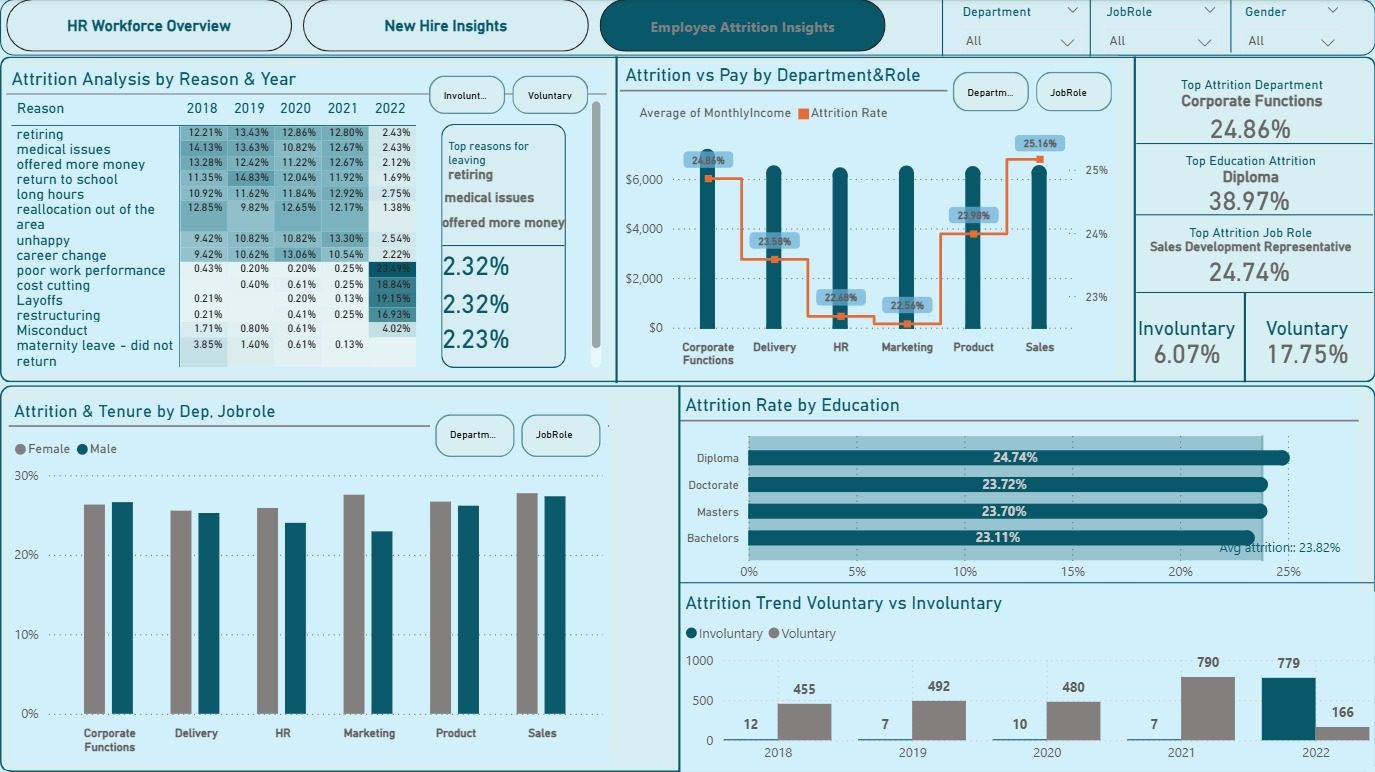

Layout of this report page (visuals, bound fields, positions):
{"tool":"powerbi","page":{"name":"Employee Attrition Insights","canvas":[1280,720],"ordinal":2},"visuals":[{"type":"pivotTable","title":"Attrition Analysis by Reason & Year","fields":{"Rows":["HR Employee data.Reason"],"Values":["Age Group.Attrition Rate with reason (%)"],"Columns":["HR Employee data.LeavingYear"]},"box":[6.1,63.8,558.3,282.2],"z":0,"group":"g2"},{"type":"shape","box":[411.1,116,115.9,226.9],"z":0,"group":"g1"},{"type":"shape","box":[0,359.5,1279.8,360.7],"z":0},{"type":"shape","box":[0,54,1279.8,303.1],"z":1000},{"type":"advancedSlicerVisual","fields":{"Values":["HR Employee data.RelievingStatus"]},"box":[395,66.3,158.3,46.6],"z":1000,"group":"g2"},{"type":"cardVisual","fields":{"Data":["Age Group.Top Attrition Reason"]},"box":[400.1,115.9,136.6,72.9],"z":1000,"group":"g1"},{"type":"clusteredColumnChart","title":"Attrition & Tenure by Dep, Jobrole","fields":{"Category":["HR Employee data.Department","Job_position_structure.JobRole"],"Y":["Employee_office_survey.Attrition Rate (%)"],"Series":["HR Employee data.Gender"]},"box":[8.1,373.3,558.1,337.2],"z":1000,"group":"g3"},{"type":"cardVisual","fields":{"Data":["Age Group.Top Attrition Department"]},"box":[1079.7,60.1,169.3,47.9],"z":2000},{"type":"shape","box":[412.3,218.3,113.4,21.5],"z":2000,"group":"g1"},{"type":"shape","title":"Employee Attrition Insights","box":[0,0,1279.8,52.8],"z":3000},{"type":"lineStackedColumnComboChart","title":"Attrition vs Pay by Department&Role","fields":{"Category":["HR Employee data.Department","Job_position_structure.JobRole"],"Y":["Avg(HR Employee data.MonthlyIncome)"],"Y2":["Age Group.Attrition Rate"]},"box":[576.7,60.1,461.4,290.8],"z":3000,"group":"g4"},{"type":"cardVisual","fields":{"Data":["Age Group.Top 2 Attrition Reasons"]},"box":[396.9,164.9,161.2,38.2],"z":3000,"group":"g1"},{"type":"advancedSlicerVisual","fields":{"Values":["Attrition View.Attrition View"]},"box":[399.8,381.7,165.5,50.2],"z":3000,"group":"g3"},{"type":"shape","box":[1056.8,130.7,220.3,8.5],"z":4000},{"type":"cardVisual","fields":{"Data":["Age Group.Top 3 Attrition Reason"]},"box":[394.9,187.6,158.2,38.2],"z":4000,"group":"g1"},{"type":"advancedSlicerVisual","fields":{"Values":["attrition view 2.attrition view 2"]},"box":[880.9,62.4,158.6,47.2],"z":5000,"group":"g4"},{"type":"cardVisual","fields":{"Data":["Age Group.Top 1 Attrition Rate1 %"]},"box":[395,221.8,117,44.1],"z":5000,"group":"g1"},{"type":"shape","box":[1056.8,263.9,220.3,18.2],"z":5000},{"type":"shape","box":[6.6,130.6,220.3,18.2],"z":6000},{"type":"cardVisual","fields":{"Data":["Age Group.Top 2 Attrition Rate  2%"]},"box":[395,257.9,117,40.1],"z":6000,"group":"g1"},{"type":"cardVisual","fields":{"Data":["Age Group.Top Department Attrition Rate %"]},"box":[1108.5,95.7,111.7,41.7],"z":7000},{"type":"cardVisual","fields":{"Data":["Age Group.Top 3 Attrition Rate3 %"]},"box":[395,290,117,40.1],"z":7000,"group":"g1"},{"type":"cardVisual","fields":{"Data":["Age Group.Involuntary Attrition %"]},"box":[1038.6,284.2,131.9,62.9],"z":8000},{"type":"cardVisual","fields":{"Data":["Age Group.Top Attrition Job Role"]},"box":[1050.6,192.5,227.6,65.4],"z":9000},{"type":"cardVisual","fields":{"Data":["Age Group.Voluntary Attrition %"]},"box":[1152.4,283.6,127.1,64.2],"z":10000},{"type":"cardVisual","fields":{"Data":["Age Group.Top Job Role Attrition Rate %"]},"box":[1107.5,162.2,113.8,41.2],"z":11000},{"type":"shape","box":[1145.1,273.6,25.4,83.5],"z":12000},{"type":"group","id":"g1","title":"Group 3","box":[394.9,115.9,163.2,227],"z":12006,"group":"g2"},{"type":"cardVisual","fields":{"Data":["Age Group.Top Education by Attrition"]},"box":[1079.6,131.9,169.5,52.1],"z":13000},{"type":"shape","box":[566.5,53.3,14.5,303.8],"z":14000},{"type":"cardVisual","fields":{"Data":["Age Group.Top Education Attrition %"]},"box":[1107.3,228.1,114.1,47.9],"z":15000},{"type":"shape","box":[1047.9,54,16,303.1],"z":16000},{"type":"group","id":"g2","title":"Group 1","box":[6.1,63.8,558.3,282.2],"z":17000},{"type":"group","id":"g3","title":"Group 2","box":[8.1,373.3,558.1,337.2],"z":18000},{"type":"group","id":"g4","title":"Group 4","box":[576.7,60.1,462.8,290.8],"z":19000},{"type":"clusteredBarChart","title":"Attrition Rate by Education","fields":{"Category":["HR Employee data.EducationField"],"Y":["Age Group.Attrition Rate"]},"box":[632.6,367.4,631.4,183.7],"z":20000},{"type":"clusteredColumnChart","title":"Attrition Trend Voluntary vs Involuntary","fields":{"Category":["HR Employee data.LeavingYear"],"Y":["Age Group.Attrition count"],"Series":["HR Employee data.RelievingStatus"]},"box":[632.6,551.2,646.5,168.6],"z":21000},{"type":"shape","box":[632.6,534.9,645.4,16.3],"z":23000},{"type":"shape","box":[624.4,359.3,15.1,360.5],"z":24000},{"type":"slicer","fields":{"Values":["Job_position_structure.JobRole"]},"box":[1016.8,0,127.1,48.4],"z":27000},{"type":"slicer","fields":{"Values":["HR Employee data.Department"]},"box":[882.5,0,133.2,48.4],"z":28000},{"type":"slicer","fields":{"Values":["HR Employee data.Gender"]},"box":[1145.1,0,112.6,49.6],"z":29000},{"type":"shape","box":[861.9,0,30.3,53.3],"z":30000},{"type":"shape","box":[1007.1,0,14.5,53.3],"z":31000},{"type":"shape","box":[1137.9,0,13.3,49.6],"z":32000},{"type":"shape","box":[1056.8,196.1,220.3,8.5],"z":33000},{"type":"pageNavigator","box":[6.1,0,820.7,49.6],"z":34000}]}

Visuals, with their boxes in screenshot pixels (x1, y1, x2, y2), scaled from the page's 1280x720 canvas onto the 1375x772 screenshot:
"Attrition Analysis by Reason & Year" pivotTable: <box>7,68,606,371</box>
shape: <box>442,124,566,368</box>
shape: <box>0,385,1374,771</box>
shape: <box>0,58,1374,383</box>
advancedSlicerVisual - HR Employee data.RelievingStatus: <box>424,71,594,121</box>
cardVisual - Age Group.Top Attrition Reason: <box>430,124,577,202</box>
"Attrition & Tenure by Dep, Jobrole" clusteredColumnChart: <box>9,400,608,762</box>
cardVisual - Age Group.Top Attrition Department: <box>1160,64,1342,116</box>
shape: <box>443,234,565,257</box>
"Employee Attrition Insights" shape: <box>0,0,1374,57</box>
"Attrition vs Pay by Department&Role" lineStackedColumnComboChart: <box>620,64,1115,376</box>
cardVisual - Age Group.Top 2 Attrition Reasons: <box>426,177,600,218</box>
advancedSlicerVisual - Attrition View.Attrition View: <box>429,409,607,463</box>
shape: <box>1135,140,1372,149</box>
cardVisual - Age Group.Top 3 Attrition Reason: <box>424,201,594,242</box>
advancedSlicerVisual - attrition view 2.attrition view 2: <box>946,67,1117,118</box>
cardVisual - Age Group.Top 1 Attrition Rate1 %: <box>424,238,550,285</box>
shape: <box>1135,283,1372,302</box>
shape: <box>7,140,244,160</box>
cardVisual - Age Group.Top 2 Attrition Rate  2%: <box>424,277,550,320</box>
cardVisual - Age Group.Top Department Attrition Rate %: <box>1191,103,1311,147</box>
cardVisual - Age Group.Top 3 Attrition Rate3 %: <box>424,311,550,354</box>
cardVisual - Age Group.Involuntary Attrition %: <box>1116,305,1257,372</box>
cardVisual - Age Group.Top Attrition Job Role: <box>1129,206,1373,277</box>
cardVisual - Age Group.Voluntary Attrition %: <box>1238,304,1374,373</box>
cardVisual - Age Group.Top Job Role Attrition Rate %: <box>1190,174,1312,218</box>
shape: <box>1230,293,1257,383</box>
"Group 3" group: <box>424,124,600,368</box>
cardVisual - Age Group.Top Education by Attrition: <box>1160,141,1342,197</box>
shape: <box>609,57,624,383</box>
cardVisual - Age Group.Top Education Attrition %: <box>1189,245,1312,296</box>
shape: <box>1126,58,1143,383</box>
"Group 1" group: <box>7,68,606,371</box>
"Group 2" group: <box>9,400,608,762</box>
"Group 4" group: <box>620,64,1117,376</box>
"Attrition Rate by Education" clusteredBarChart: <box>680,394,1358,591</box>
"Attrition Trend Voluntary vs Involuntary" clusteredColumnChart: <box>680,591,1374,771</box>
shape: <box>680,574,1373,591</box>
shape: <box>671,385,687,771</box>
slicer - Job_position_structure.JobRole: <box>1092,0,1229,52</box>
slicer - HR Employee data.Department: <box>948,0,1091,52</box>
slicer - HR Employee data.Gender: <box>1230,0,1351,53</box>
shape: <box>926,0,958,57</box>
shape: <box>1082,0,1097,57</box>
shape: <box>1222,0,1237,53</box>
shape: <box>1135,210,1372,219</box>
pageNavigator: <box>7,0,888,53</box>
